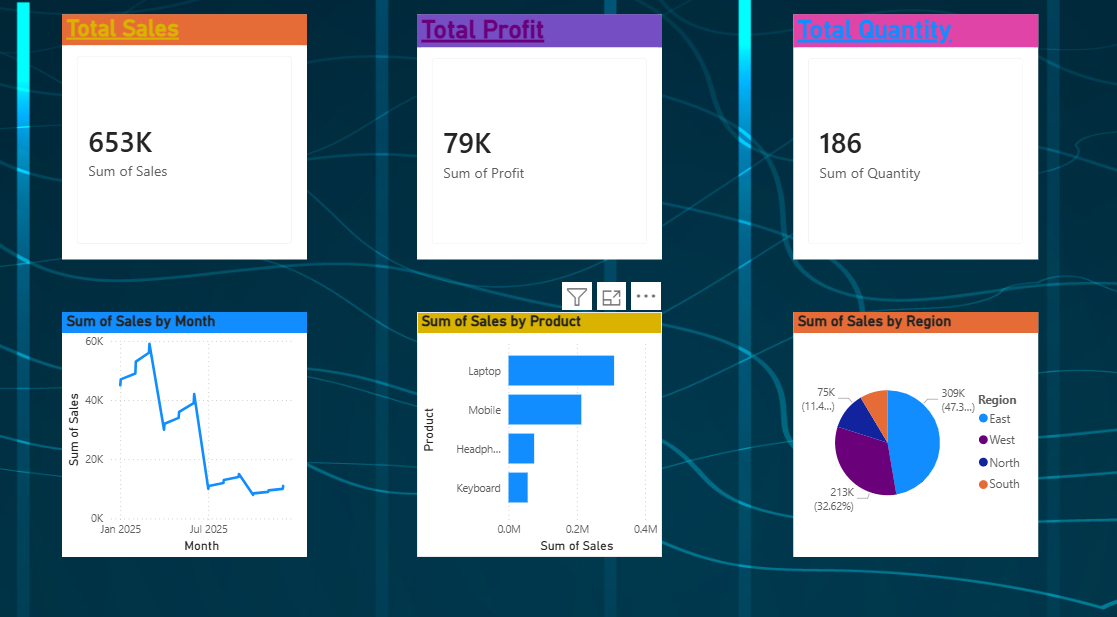

This screenshot's page, from the dashboard's own definition file:
{"tool":"powerbi","page":{"name":"Page 1","canvas":[1280,720],"ordinal":0},"visuals":[{"type":"cardVisual","title":"Total Sales","fields":{"Data":["Sum(Sheet1.Sales)"]},"box":[74.3,20,280,280],"z":0},{"type":"cardVisual","title":"Total Quantity","fields":{"Data":["Sum(Sheet1.Quantity)"]},"box":[910,20,280,280],"z":2},{"type":"cardVisual","title":"Total Profit","fields":{"Data":["Sum(Sheet1.Profit)"]},"box":[480,20,280,280],"z":3},{"type":"lineChart","fields":{"Category":["Sheet1.Month"],"Y":["Sum(Sheet1.Sales)"]},"box":[74.3,360,280,280],"z":4},{"type":"clusteredBarChart","fields":{"Category":["Sheet1.Product"],"Y":["Sum(Sheet1.Sales)"]},"box":[480,360,280,280],"z":5},{"type":"pieChart","fields":{"Category":["Sheet1.Region"],"Y":["Sum(Sheet1.Sales)"]},"box":[910,360,280,280],"z":6}]}

Visuals, with their boxes in screenshot pixels (x1, y1, x2, y2), scaled from the page's 1280x720 canvas onto the 1117x617 screenshot:
"Total Sales" cardVisual: (left=65, top=17, right=309, bottom=257)
"Total Quantity" cardVisual: (left=794, top=17, right=1038, bottom=257)
"Total Profit" cardVisual: (left=419, top=17, right=663, bottom=257)
lineChart - Sheet1.Month x Sum(Sheet1.Sales): (left=65, top=308, right=309, bottom=548)
clusteredBarChart - Sheet1.Product x Sum(Sheet1.Sales): (left=419, top=308, right=663, bottom=548)
pieChart - Sheet1.Region x Sum(Sheet1.Sales): (left=794, top=308, right=1038, bottom=548)
